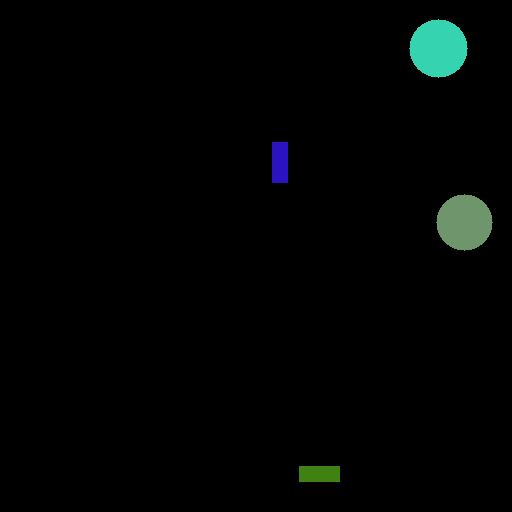circle: (434, 194, 493, 249), (408, 18, 467, 73)
side_rect: (296, 461, 342, 485)
up_rect: (268, 142, 295, 186)
